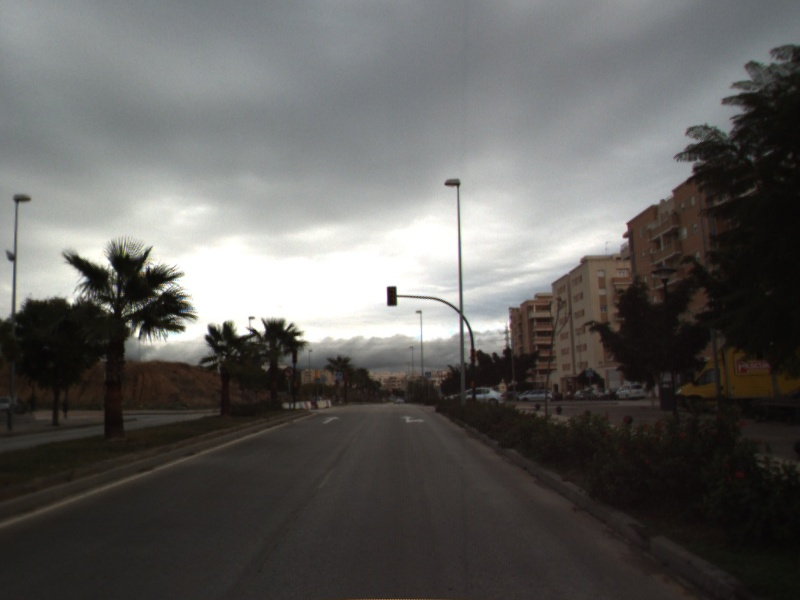STRAIGHT: (320, 414, 342, 425)
STRAIGHT_RIGHT: (399, 413, 427, 425)
